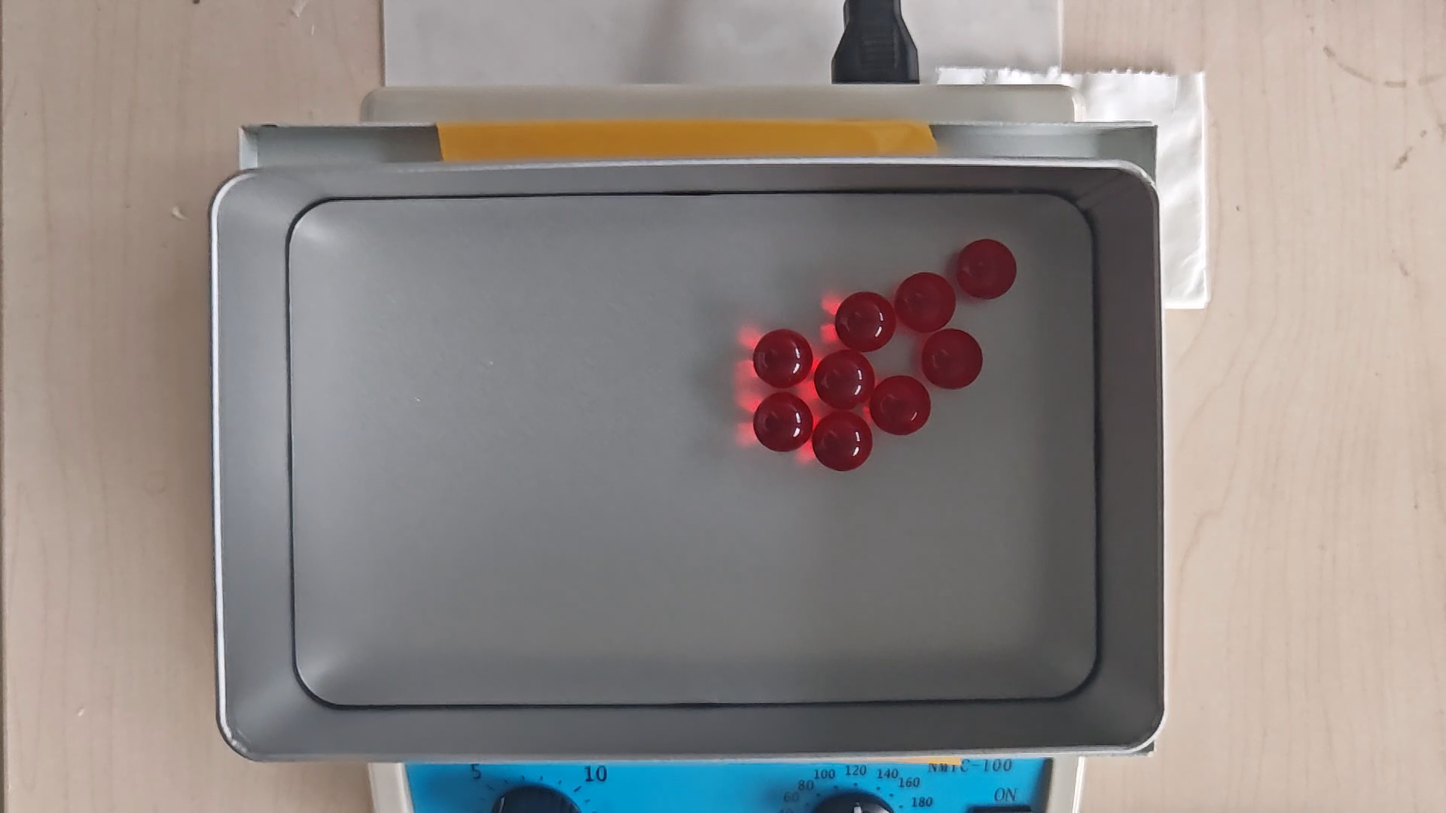ball: (813, 410, 873, 473), (923, 329, 984, 390), (836, 290, 896, 352), (871, 375, 931, 436), (752, 328, 812, 389), (753, 392, 813, 453), (896, 272, 956, 332), (957, 239, 1016, 300), (815, 351, 872, 409)
container: (286, 197, 1102, 702)
